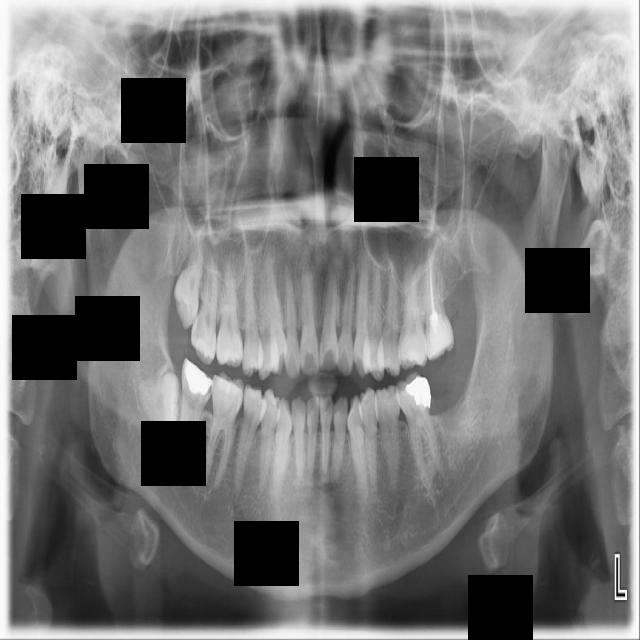3M ESPE Implant: (169, 233, 208, 332)
52: (167, 356, 222, 408), (393, 368, 438, 423), (424, 314, 454, 363)
73: (425, 250, 449, 323), (610, 562, 614, 574)
BioHorizons Implant: (424, 249, 456, 362)
Caries: (190, 260, 219, 366)
Implant: (176, 358, 216, 465)
Keystone Dental Implant: (139, 371, 181, 442)
